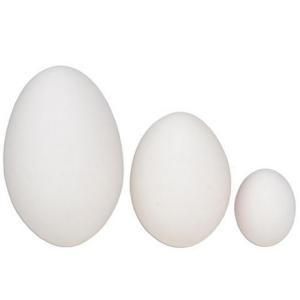Egg: (0, 41, 127, 266), (131, 80, 236, 274), (236, 147, 299, 268)
